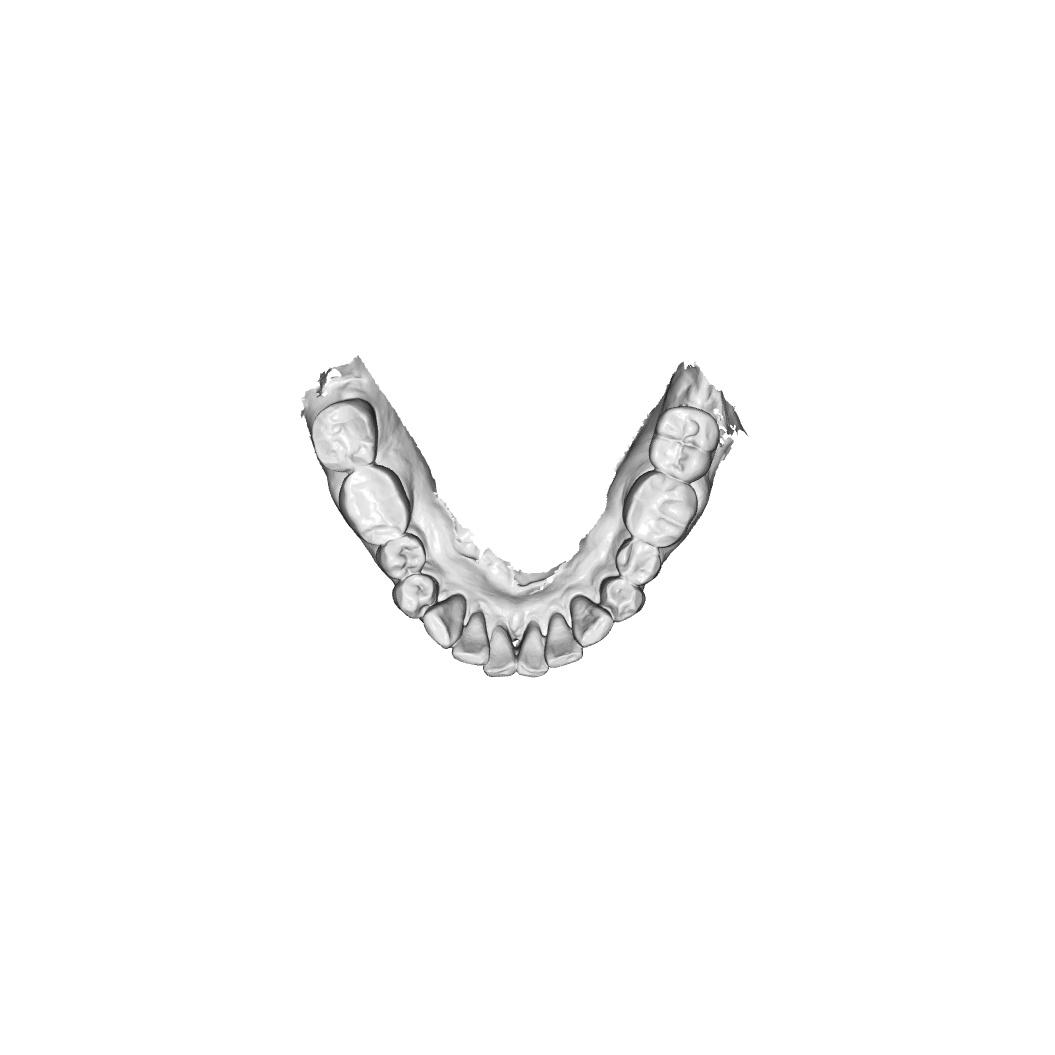canine: (421, 594, 468, 649), (570, 594, 614, 649)
incisor: (543, 612, 584, 669), (451, 610, 491, 666), (516, 619, 550, 678), (482, 624, 517, 679)
molar: (337, 463, 413, 546), (622, 469, 699, 548), (648, 405, 721, 484), (310, 397, 379, 473)
premolar: (375, 532, 427, 581), (614, 537, 663, 586), (599, 575, 647, 623), (391, 572, 440, 619)
